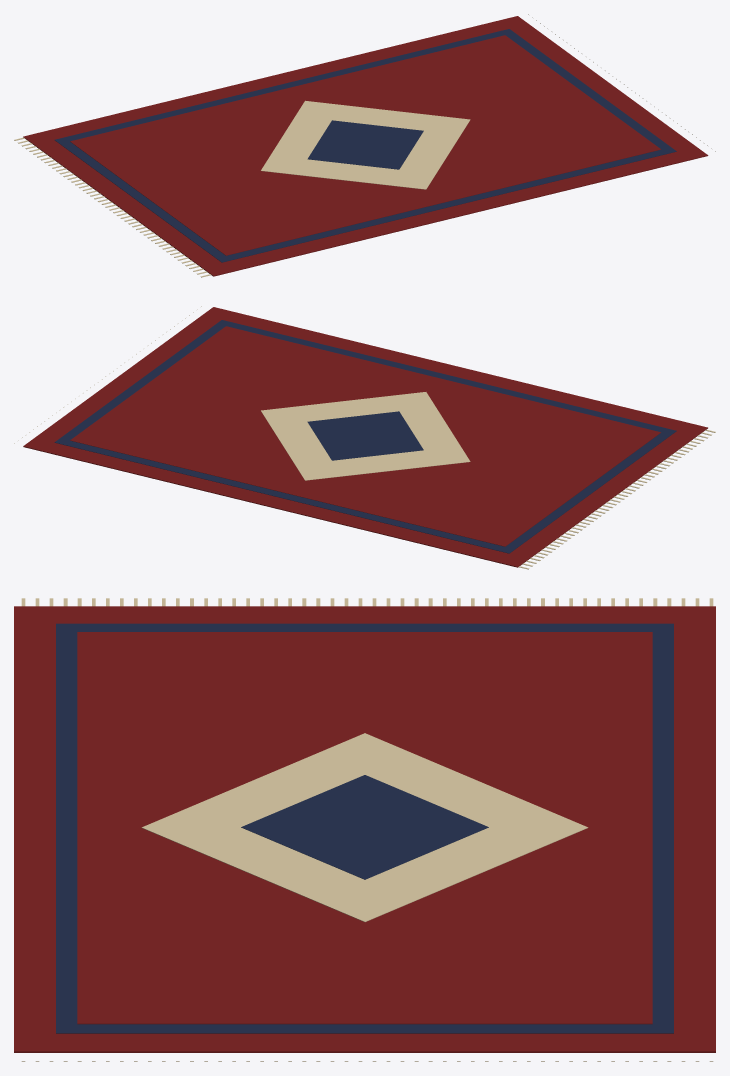
File: SM_80s_RugBoss.glb
The picture shows the model from 3 angles, top to bottom: view 1: azimuth 30°, elevation 25°; view 2: azimuth 150°, elevation 25°; view 3: azimuth 270°, elevation 25°; orthographic projection. The views are drawn at different scales.
Visible parts, largest first — view 1: SM_80s_RugBoss; view 2: SM_80s_RugBoss; view 3: SM_80s_RugBoss.
Part boxes in pixels (x1,y1,x2,y2): SM_80s_RugBoss: (14, 14, 715, 277); SM_80s_RugBoss: (14, 306, 715, 569); SM_80s_RugBoss: (14, 598, 715, 1061).
Bounding box in the file's own units: 4.12 × 0.013 × 2.64.
